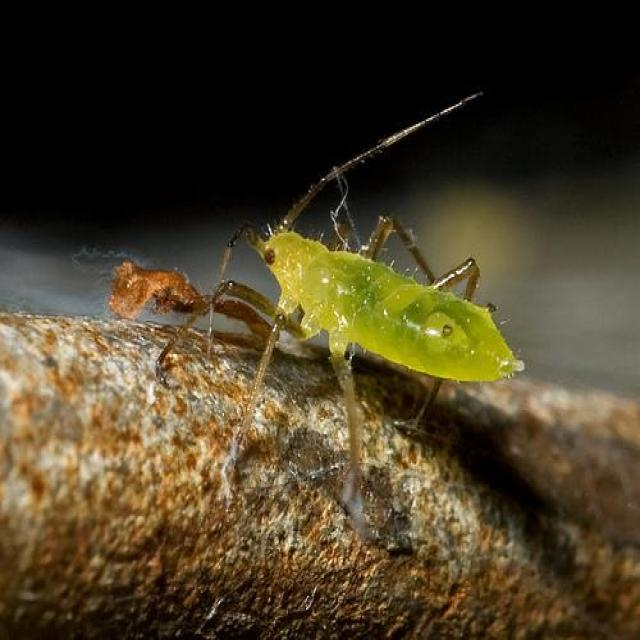Aphids: (214, 174, 557, 471)
